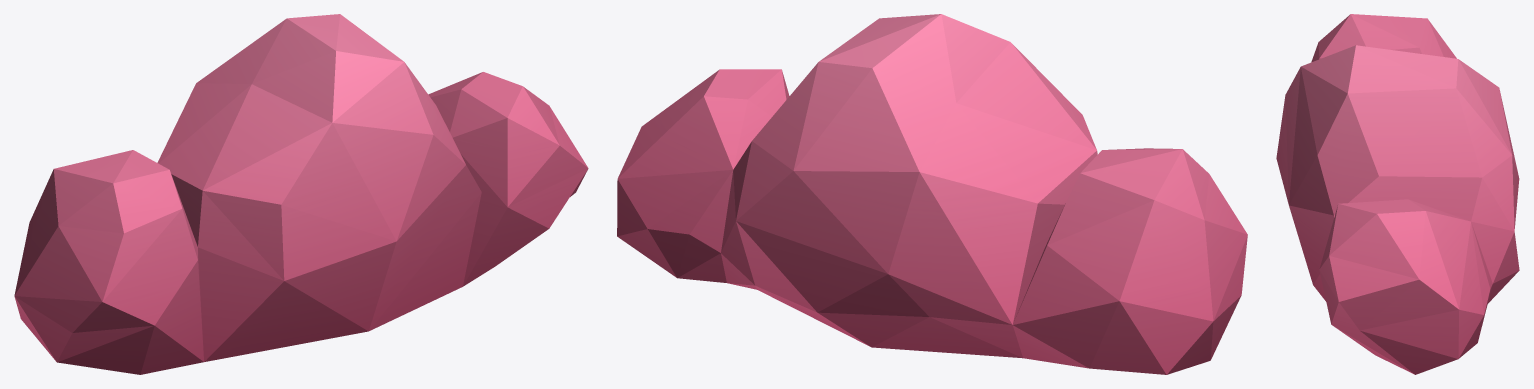
The model's file is bush_crown_pink.fbx.
The picture shows the model from 3 angles, left to right: view 1: azimuth 30°, elevation 25°; view 2: azimuth 150°, elevation 25°; view 3: azimuth 270°, elevation 25°; orthographic projection. The views are drawn at different scales.
Visible parts, largest first — view 1: bush_crown_pink; view 2: bush_crown_pink; view 3: bush_crown_pink.
Part boxes in pixels (x1,y1,x2,y2): bush_crown_pink: (14,14,588,374); bush_crown_pink: (617,14,1247,374); bush_crown_pink: (1276,14,1519,374).
Bounding box in the file's own units: 3.2 × 1.5 × 1.4.
Materials: 1 (1 with a texture image).
